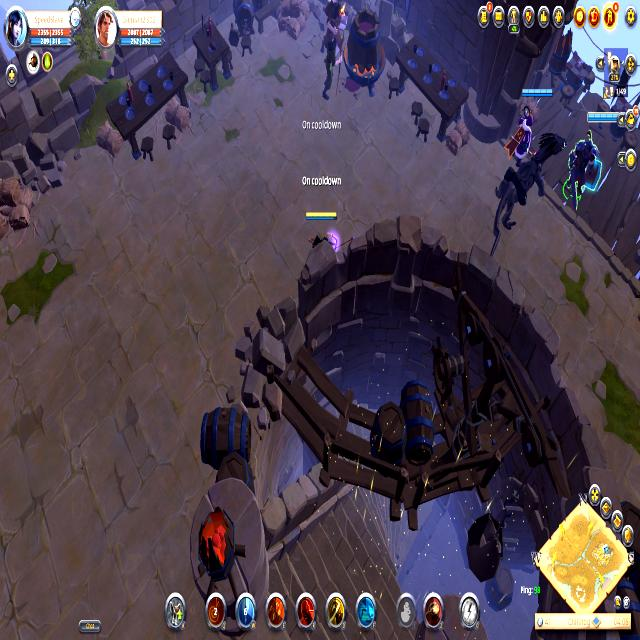ore: (317, 28, 349, 108), (316, 0, 352, 61)
red: (564, 111, 619, 204), (512, 83, 552, 161), (302, 206, 338, 262)
